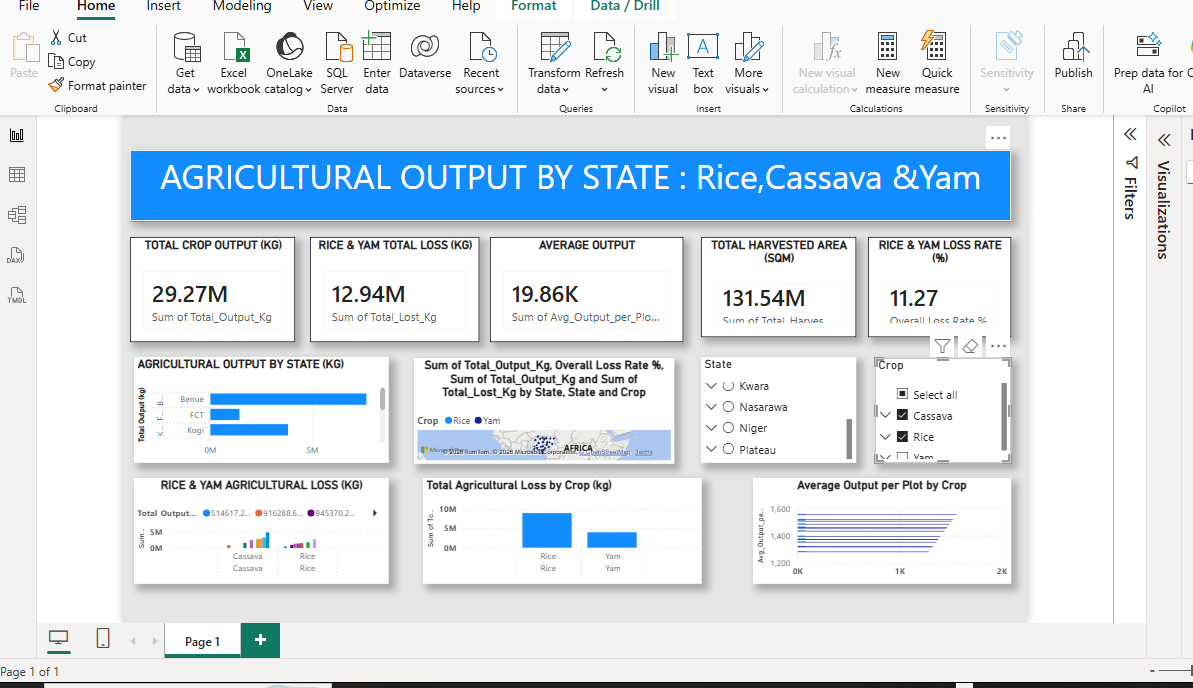

This screenshot's page, from the dashboard's own definition file:
{"tool":"powerbi","page":{"name":"Page 1","canvas":[1280,720],"ordinal":0},"visuals":[{"type":"textbox","box":[10.1,49,1248.5,100.8],"z":0},{"type":"cardVisual","title":"TOTAL CROP OUTPUT (KG)","fields":{"Data":["Sum(tblCassavaNC.Total_Output_Kg)","Sum(tblCassavaNC.Total_Output_Kg)"]},"box":[9.9,172.9,233.9,148.8],"z":1000},{"type":"cardVisual","title":"RICE & YAM TOTAL LOSS (KG)","fields":{"Data":["Sum(tblRiceYamOutput.Total_Lost_Kg)"]},"box":[265,172.9,239.5,148.8],"z":2000},{"type":"cardVisual","title":"AVERAGE OUTPUT","fields":{"Data":["Sum(tblCassavaNC.Avg_Output_per_Plot_Kg)","Sum(tblCassavaNC.Avg_Output_per_Plot_Kg)"]},"box":[520.2,172.9,273.5,148.8],"z":3000},{"type":"cardVisual","title":"TOTAL HARVESTED AREA (SQM) ","fields":{"Data":["Sum(tblCassavaNC.Total_Harvested_Area_SQM)","Sum(tblCassavaNC.Total_Harvested_Area_SQM)"]},"box":[819.2,172.9,219.7,141.7],"z":4000},{"type":"cardVisual","title":"RICE & YAM LOSS RATE (%)","fields":{"Data":["tblRiceYamOutput.Overall Loss Rate %","tblRiceYamOutput.Overall Loss Rate %"]},"box":[1055.9,172.9,202.7,141.7],"z":5000},{"type":"clusteredBarChart","title":"AGRICULTURAL OUTPUT BY STATE (KG)","fields":{"Category":["tblCassavaNC.State","tblCassavaNC.State"],"Y":["Sum(tblCassavaNC.Total_Output_Kg)","Sum(tblCassavaNC.Total_Output_Kg)"]},"box":[15.6,343,361.4,150.2],"z":6000},{"type":"map","fields":{"Category":["tblRiceYamOutput.State","tblRiceYamOutput.State"],"Series":["tblRiceYamOutput.Crop"],"Size":["Sum(tblRiceYamOutput.Total_Output_Kg)"]},"box":[412.4,344.4,368.5,150.2],"z":7000},{"type":"clusteredColumnChart","title":"RICE & YAM AGRICULTURAL LOSS (KG)","fields":{"Category":["tblCassavaNC.Crop","tblCassavaNC.Crop"],"Y":["Sum(tblCassavaNC.Total_Output_Kg)"],"Series":["tblCassavaNC.Total_Output_Kg"]},"box":[15.6,514.5,361.4,150.2],"z":8000},{"type":"clusteredColumnChart","title":" Total Agricultural Loss by Crop (kg)","fields":{"Category":["tblALLcropoutput.Crop","tblALLcropoutput.Crop"],"Y":["Sum(tblALLcropoutput.Total_Lost_Kg)"]},"box":[425.2,514.5,394.6,149.8],"z":9000},{"type":"listSlicer","fields":{"Values":["tblCassavaNC.State","tblCassavaNC.State"]},"box":[819.2,343,219.7,150.2],"z":10000},{"type":"listSlicer","fields":{"Values":["tblCassavaNC.Crop","tblCassavaNC.Crop"]},"box":[1065.8,344.4,192.8,148.8],"z":11000},{"type":"clusteredBarChart","title":"Average Output per Plot by Crop","fields":{"Y":["CountNonNull(tblALLcropoutput.State)","Sum(tblCassavaNC.Avg_Output_per_Plot_Kg)"],"Category":["tblCassavaNC.Avg_Output_per_Plot_Kg"]},"box":[892.9,514.5,365.8,149.8],"z":12000}]}

Visuals, with their boxes on the page's 1280x720 design canvas (x1, y1, x2, y2). These are canvas units, not pixel positions in the 1193x688 screenshot, which may show the page scaled, cropped or inside an application window:
textbox: [10,49,1259,150]
"TOTAL CROP OUTPUT (KG)" cardVisual: [10,173,244,322]
"RICE & YAM TOTAL LOSS (KG)" cardVisual: [265,173,504,322]
"AVERAGE OUTPUT" cardVisual: [520,173,794,322]
"TOTAL HARVESTED AREA (SQM) " cardVisual: [819,173,1039,315]
"RICE & YAM LOSS RATE (%)" cardVisual: [1056,173,1259,315]
"AGRICULTURAL OUTPUT BY STATE (KG)" clusteredBarChart: [16,343,377,493]
map - tblRiceYamOutput.State x tblRiceYamOutput.State: [412,344,781,495]
"RICE & YAM AGRICULTURAL LOSS (KG)" clusteredColumnChart: [16,514,377,665]
" Total Agricultural Loss by Crop (kg)" clusteredColumnChart: [425,514,820,664]
listSlicer - tblCassavaNC.State x tblCassavaNC.State: [819,343,1039,493]
listSlicer - tblCassavaNC.Crop x tblCassavaNC.Crop: [1066,344,1259,493]
"Average Output per Plot by Crop" clusteredBarChart: [893,514,1259,664]
